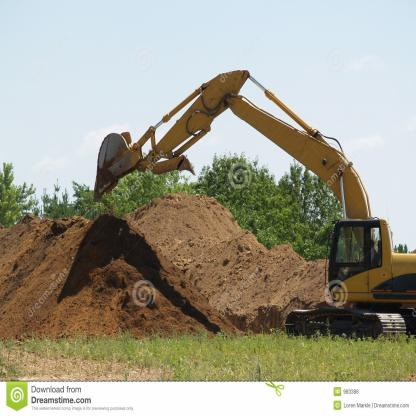excavator: (84, 62, 416, 347)
